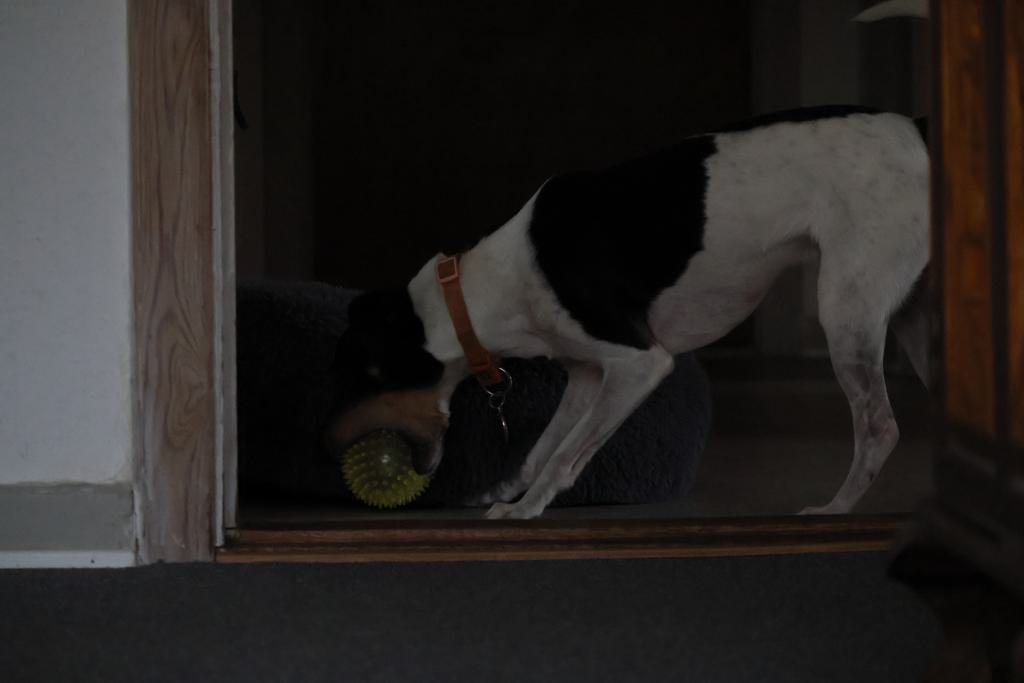Dog: (285, 0, 937, 529)
